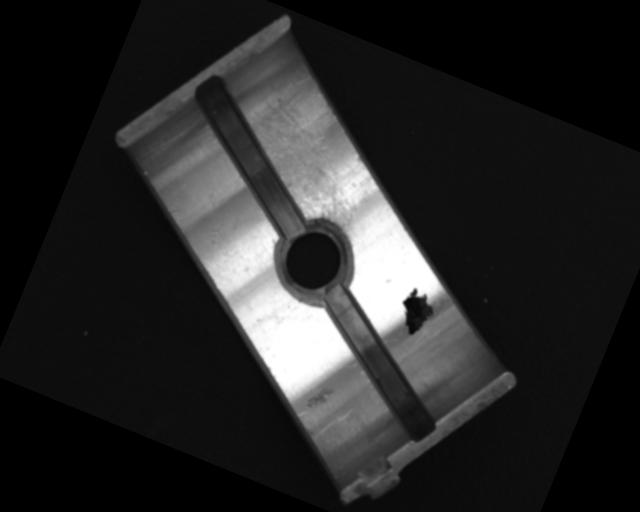blot: (389, 284, 440, 342)
bruise: (303, 379, 337, 415)
gap: (156, 73, 344, 244), (290, 285, 470, 447)
hole: (260, 206, 367, 314)
scratch: (219, 57, 401, 241)
